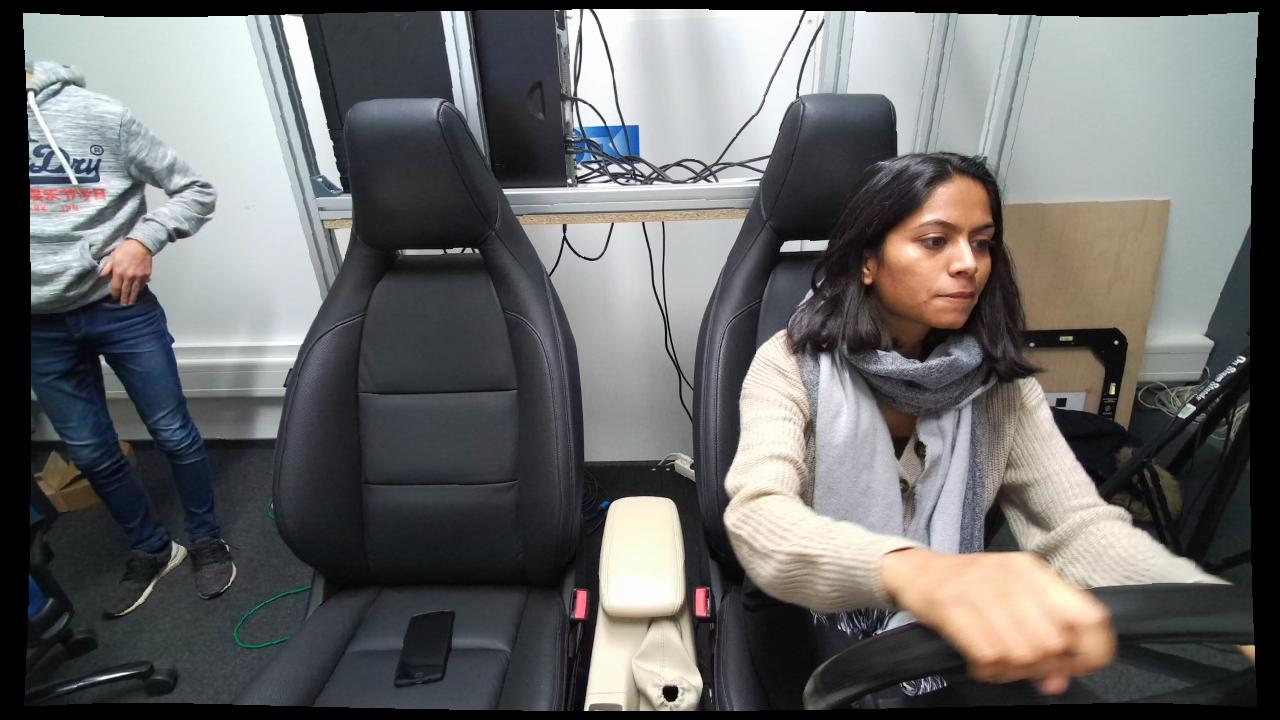SafeDriving: (721, 152, 1078, 720)
